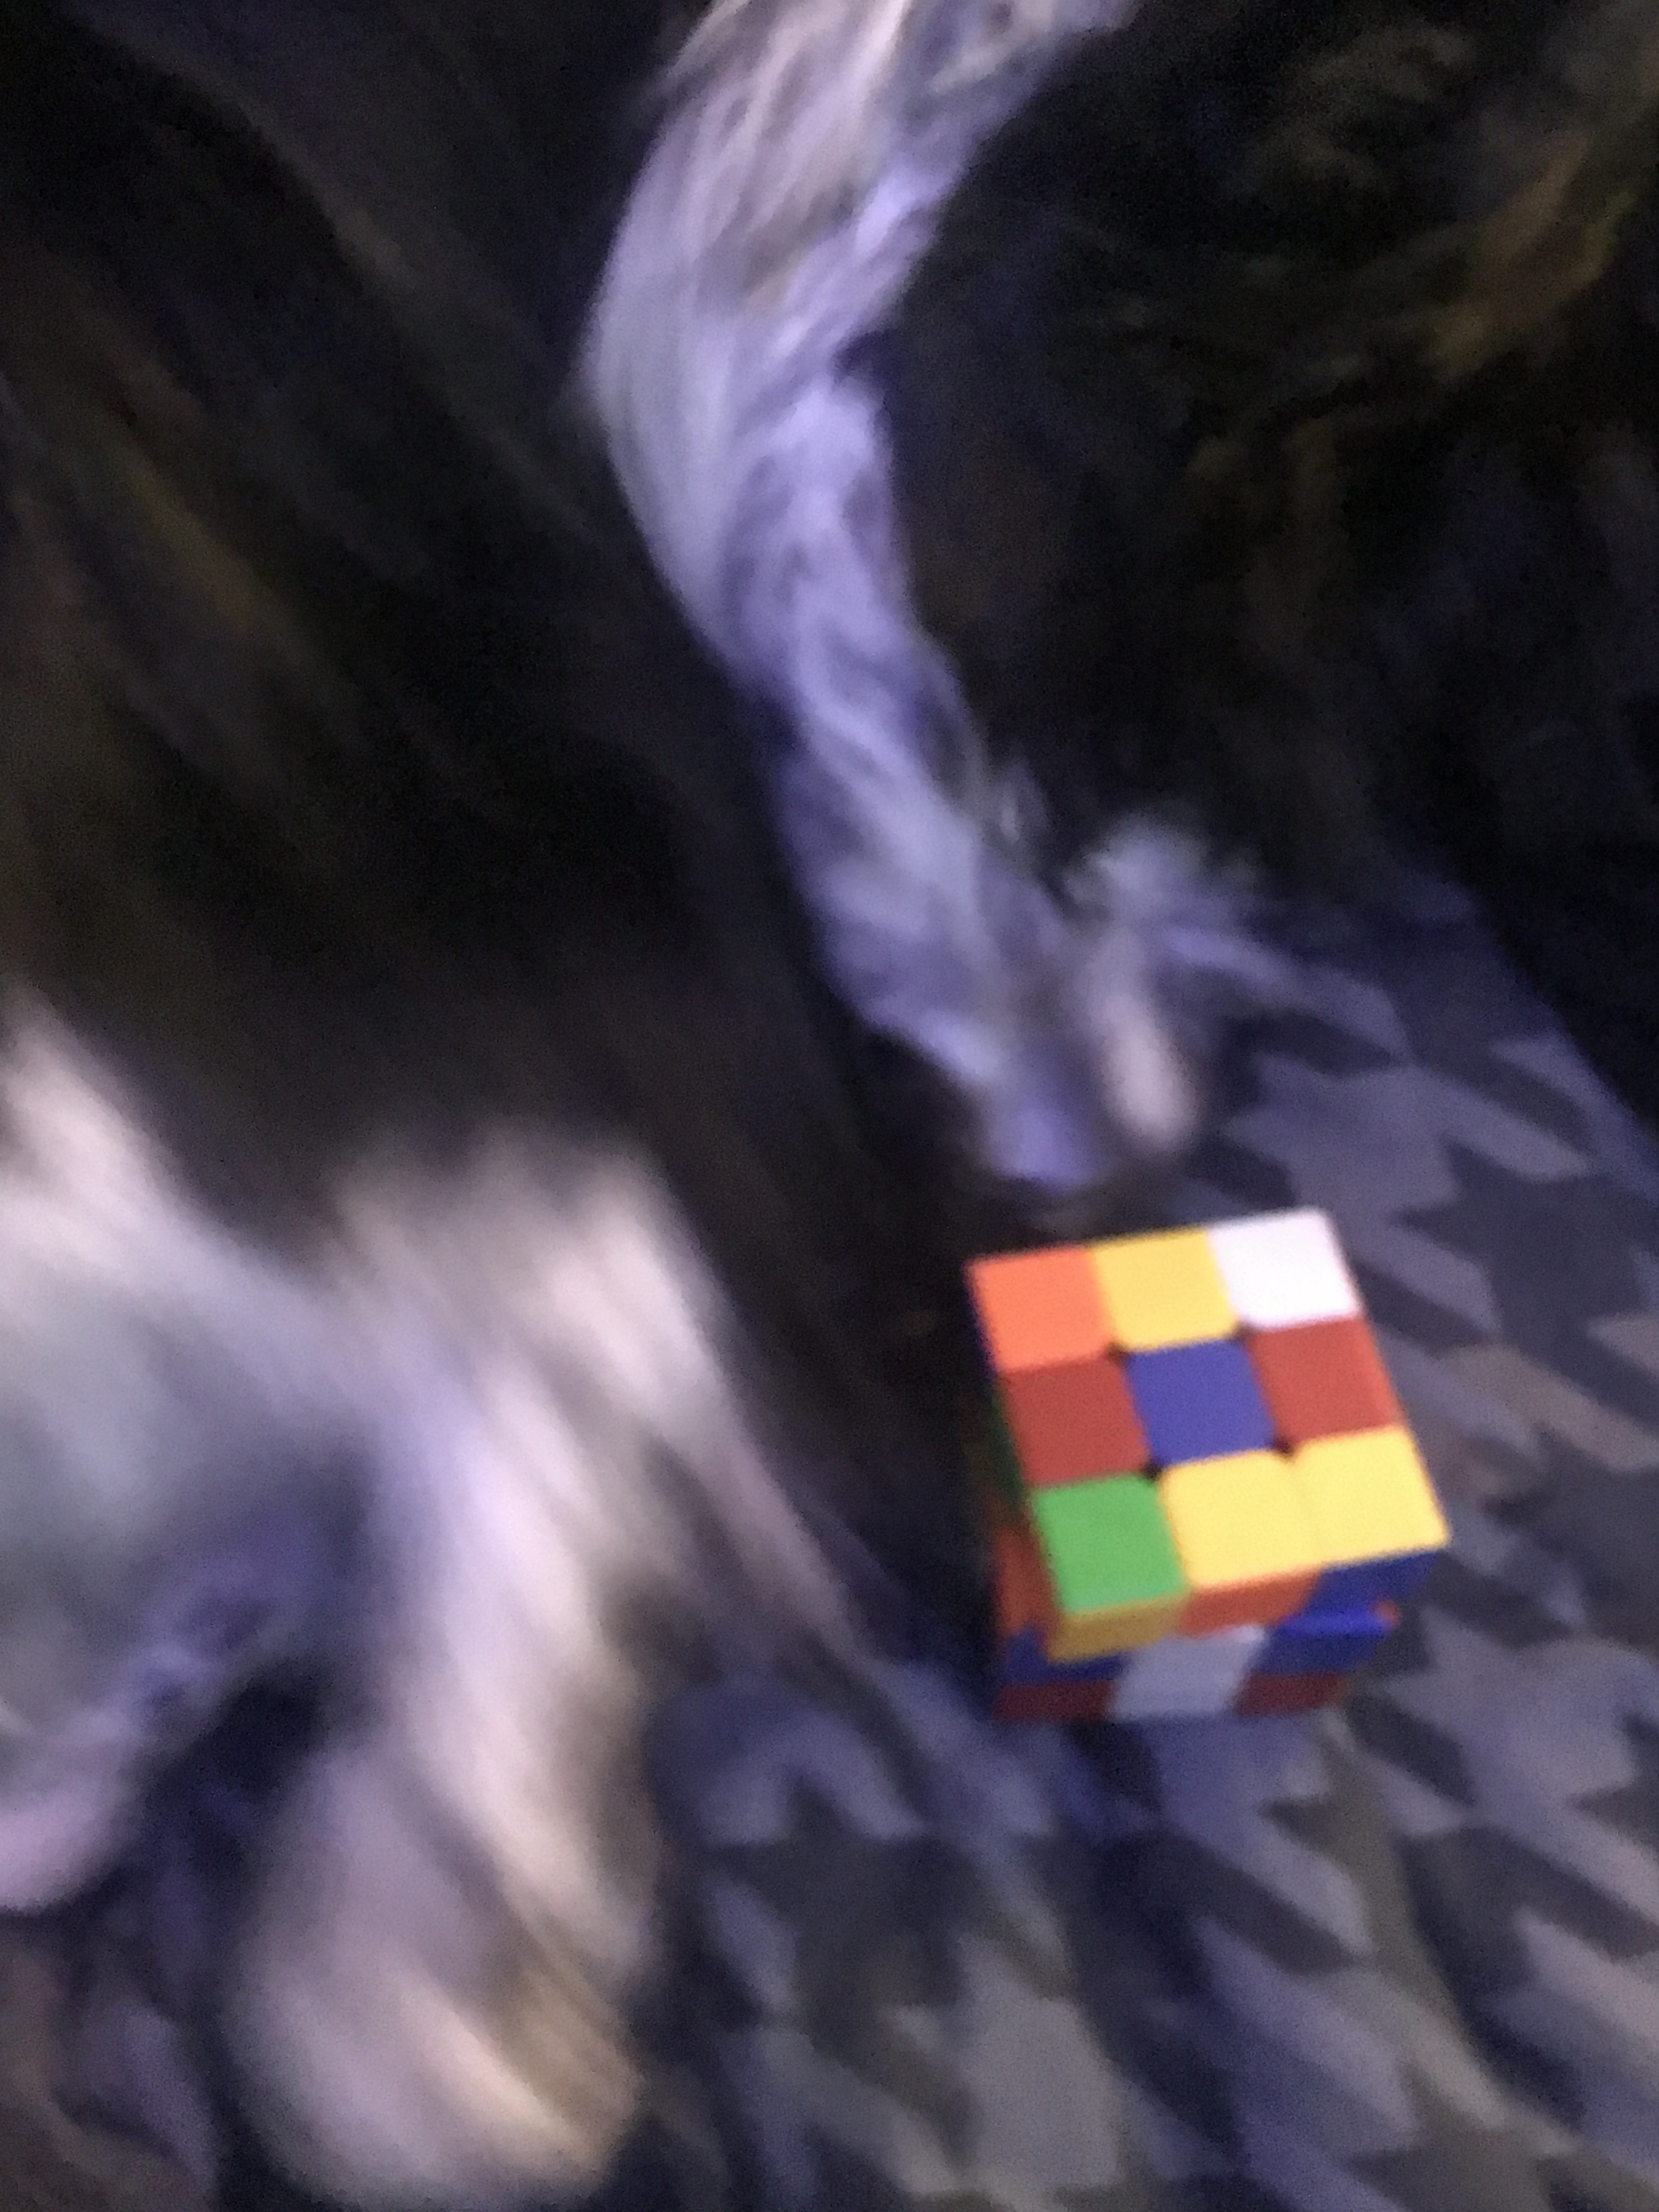rubiks: (938, 1211, 1419, 1743)
